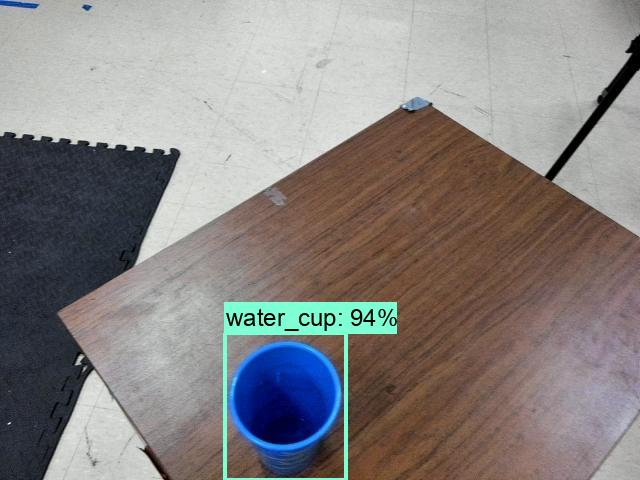water_cup: (226, 335, 348, 472)
